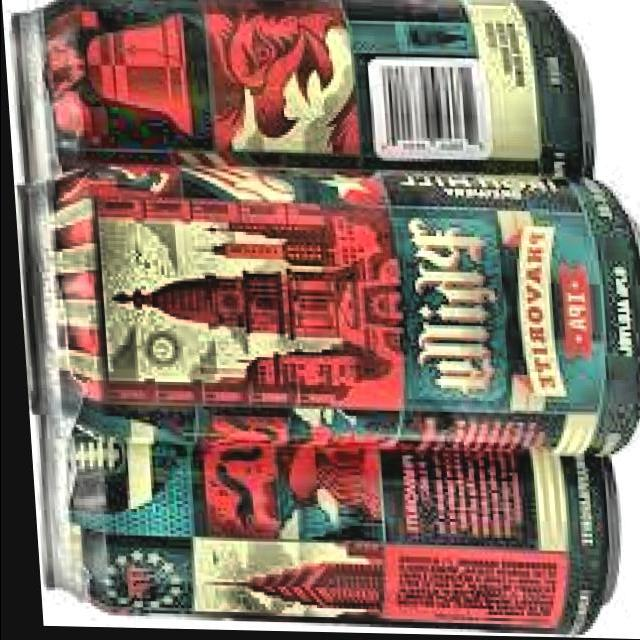litter: (9, 156, 640, 464), (26, 413, 624, 639), (0, 0, 606, 217)
